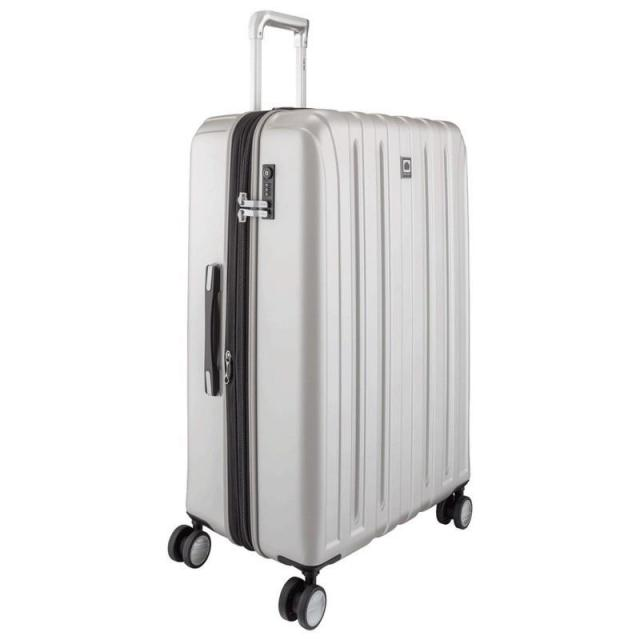luggage: (174, 102, 478, 634)
